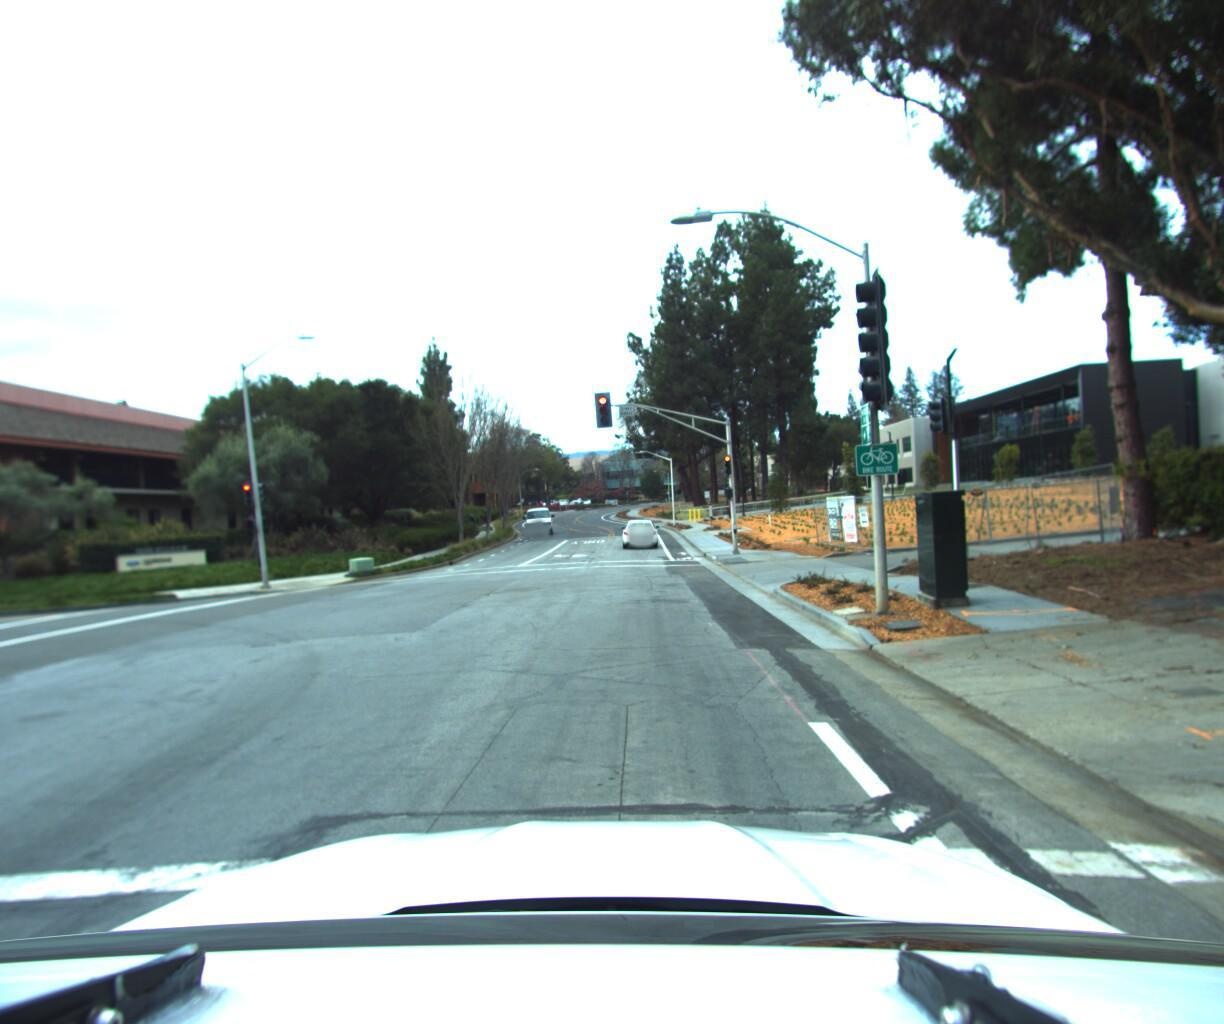car: (617, 513, 657, 548), (525, 504, 555, 535)
